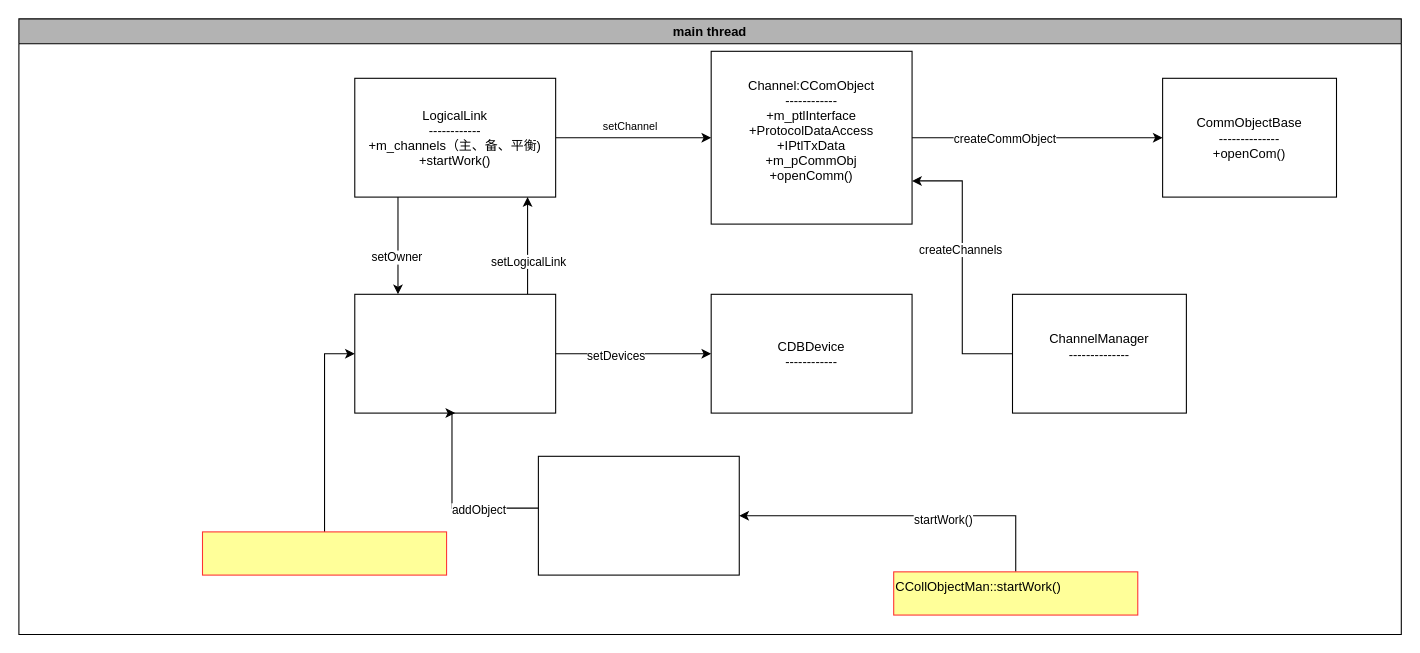
This 1420x653 diagram has some shape labels left out. Here are the shapes that lost their labels. From the top down, the box of each, then its label:
(354, 293, 556, 413): collObj CollObjectBase ------------ +startWork()
(537, 455, 739, 575): CCollObjectMan ------------ +startWork()
(201, 531, 447, 575): CModelMgr::loadModelFile()
